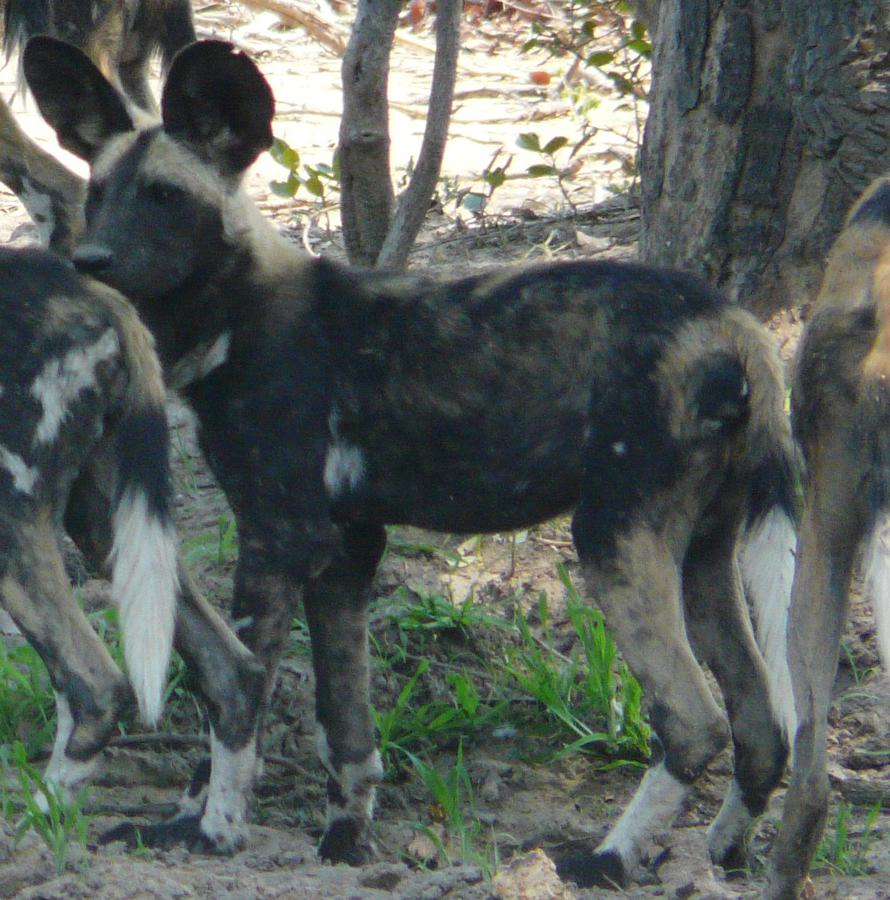wilddog: (1, 1, 890, 900)
